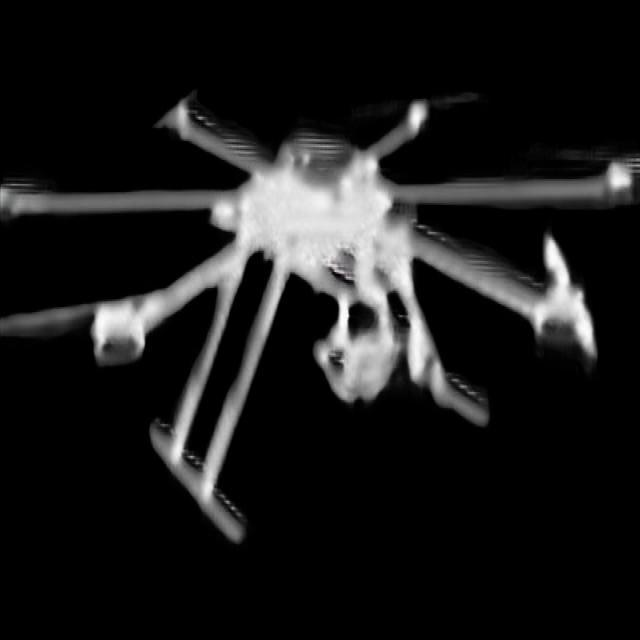drone: (9, 52, 637, 593)
